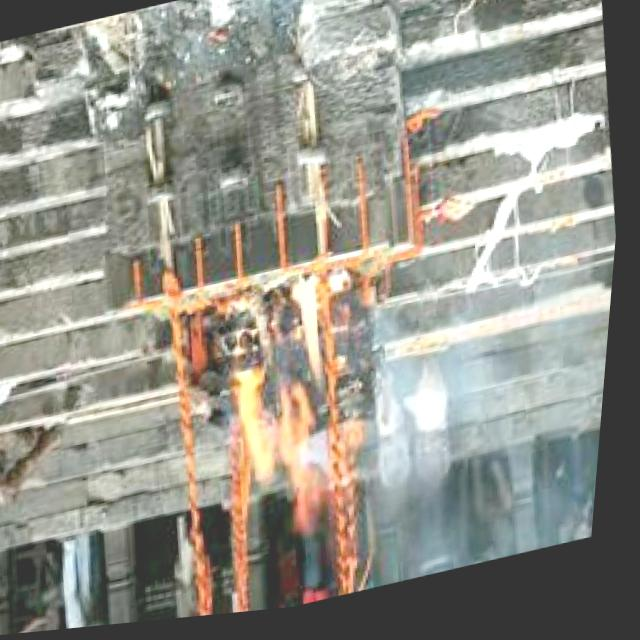helmet: (220, 270, 365, 547)
